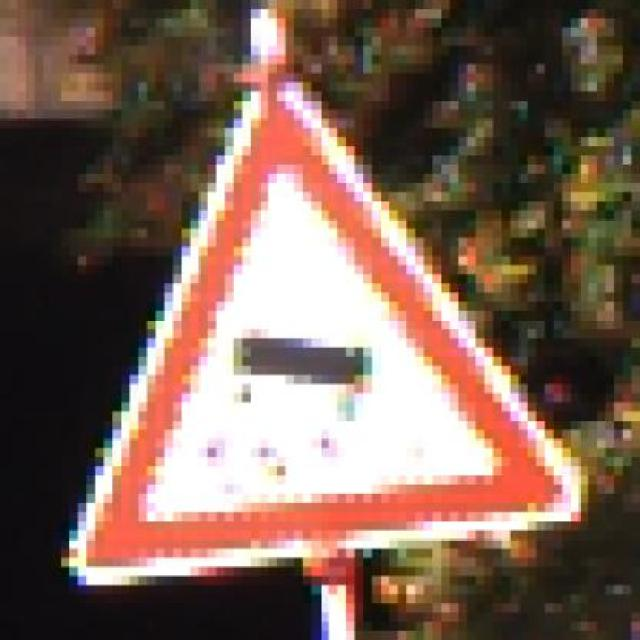Slippery Road Ahead: (61, 73, 588, 576)
